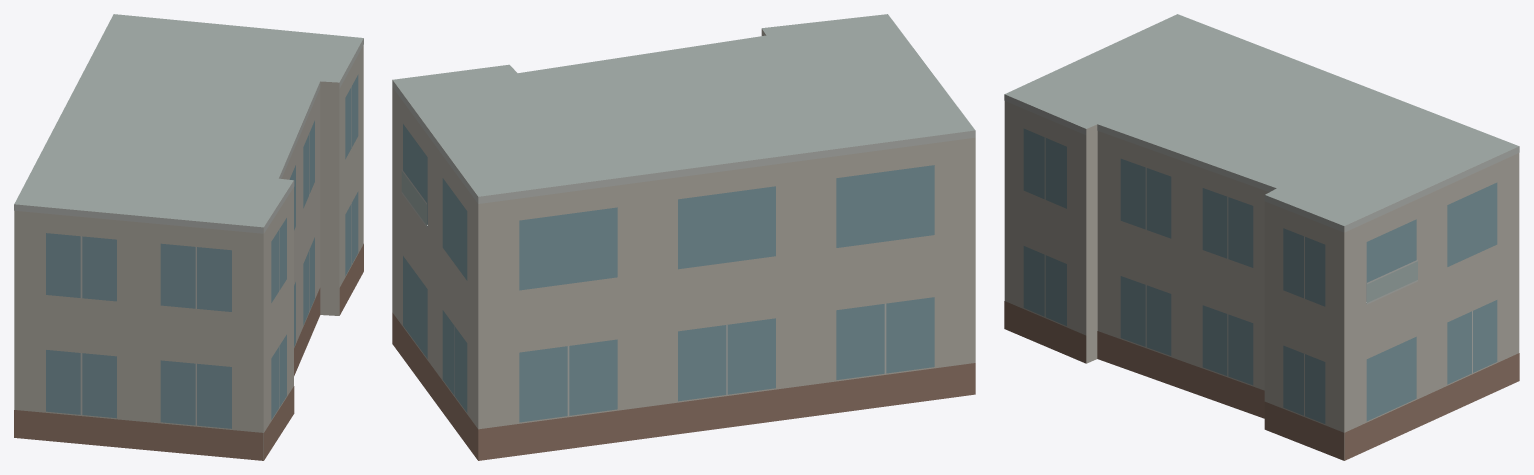
The model's file is survey-upis-32952307.glb.
The picture shows the model from 3 angles, left to right: view 1: azimuth 30°, elevation 25°; view 2: azimuth 150°, elevation 25°; view 3: azimuth 270°, elevation 25°; orthographic projection. The views are drawn at different scales.
Parts seen in each view (by area): view 1: survey-upis-32952307.tmp; view 2: survey-upis-32952307.tmp; view 3: survey-upis-32952307.tmp.
Boxes of the visible parts, bbox=[...] form: survey-upis-32952307.tmp: bbox=[14, 14, 363, 460]; survey-upis-32952307.tmp: bbox=[392, 14, 975, 460]; survey-upis-32952307.tmp: bbox=[1004, 14, 1519, 460].
Size of the model in its own units: 17.27 by 8.9 by 17.71.
